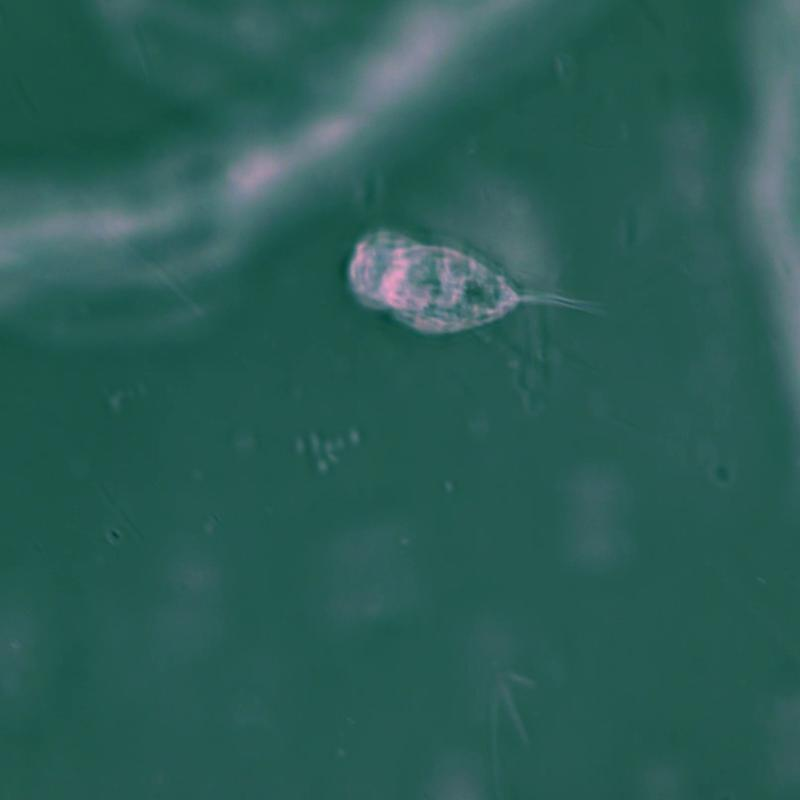depth:60: (305, 200, 640, 363)
